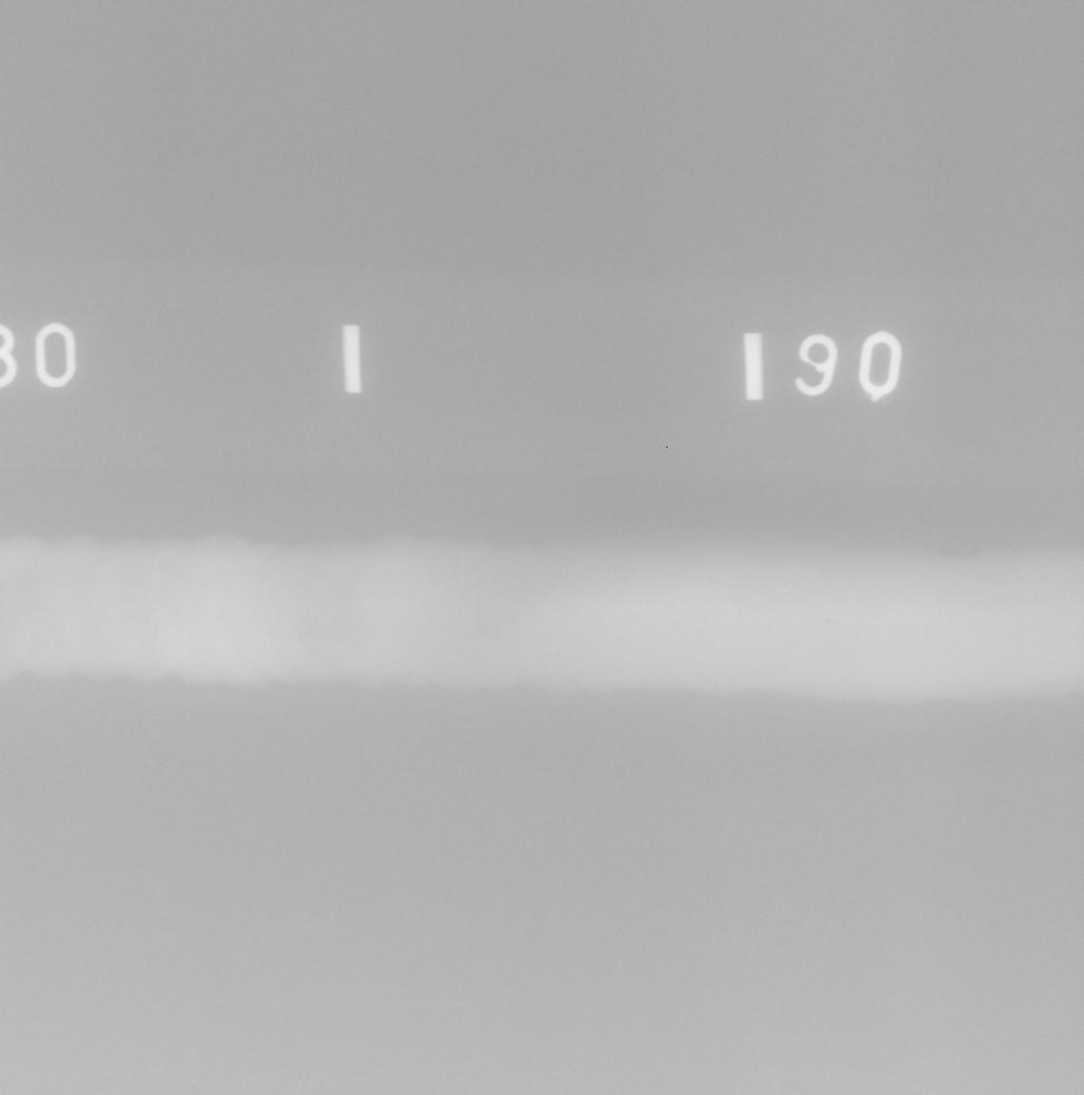Inclusion: (619, 577, 631, 583)
Pore/Porosity: (826, 618, 833, 625), (133, 585, 140, 589), (93, 626, 98, 631)
Undercut: (939, 548, 956, 556)
